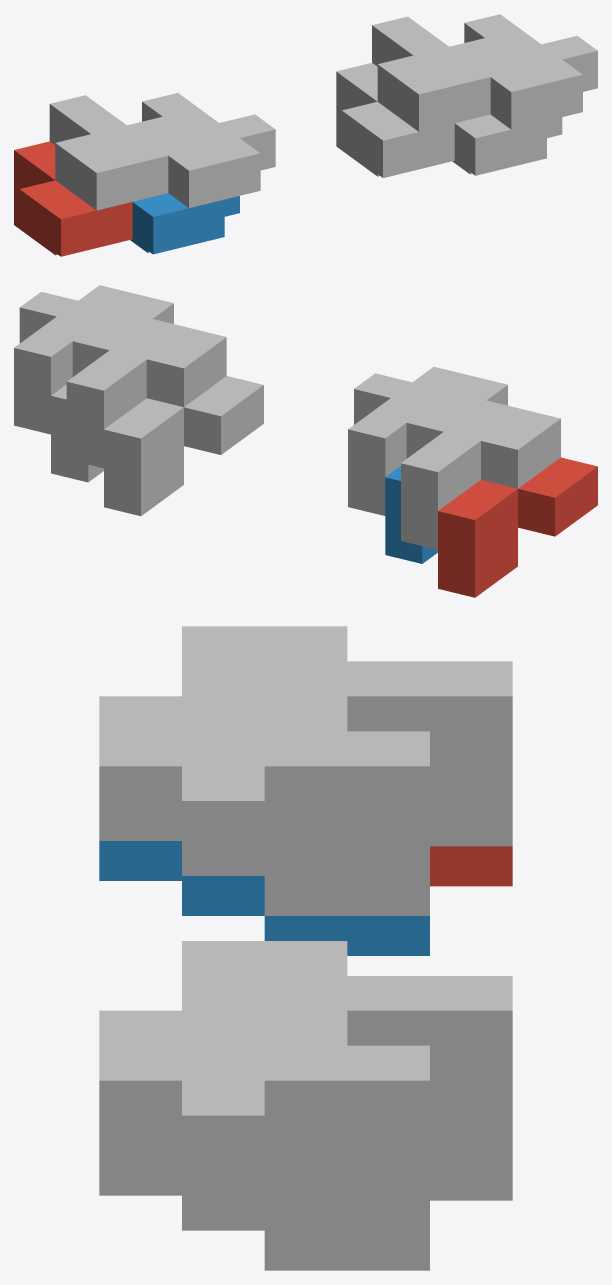
Rendered from tiling.obj.
3 renders of one model, top to bottom at view 1: azimuth 30°, elevation 25°; view 2: azimuth 150°, elevation 25°; view 3: azimuth 270°, elevation 25°, orthographic. The views are drawn at different scales.
Visible parts, largest first — view 1: copy_1_domain_3, copy_1_domain_7, copy_1_domain_8, copy_1_domain_4, copy_1_domain_5, copy_1_domain_1, copy_1_domain_6, copy_1_domain_2; view 2: copy_1_domain_7, copy_1_domain_3, copy_1_domain_1, copy_1_domain_5, copy_1_domain_4, copy_1_domain_8, copy_1_domain_6, copy_1_domain_2; view 3: copy_1_domain_8, copy_1_domain_4, copy_1_domain_3, copy_1_domain_7, copy_1_domain_6, copy_1_domain_2, copy_1_domain_1, copy_1_domain_5.
Boxes of the visible parts, bbox=[...] form: copy_1_domain_3: bbox=[49, 95, 182, 210]; copy_1_domain_7: bbox=[372, 16, 505, 131]; copy_1_domain_8: bbox=[464, 14, 597, 129]; copy_1_domain_4: bbox=[142, 93, 275, 207]; copy_1_domain_5: bbox=[336, 63, 454, 177]; copy_1_domain_1: bbox=[14, 141, 132, 256]; copy_1_domain_6: bbox=[452, 114, 562, 175]; copy_1_domain_2: bbox=[130, 193, 239, 254]; copy_1_domain_7: bbox=[66, 319, 226, 468]; copy_1_domain_3: bbox=[401, 400, 560, 549]; copy_1_domain_1: bbox=[438, 457, 597, 597]; copy_1_domain_5: bbox=[104, 376, 263, 516]; copy_1_domain_4: bbox=[348, 366, 507, 515]; copy_1_domain_8: bbox=[14, 285, 173, 434]; copy_1_domain_6: bbox=[51, 384, 103, 482]; copy_1_domain_2: bbox=[385, 466, 437, 563]; copy_1_domain_8: bbox=[99, 1010, 429, 1230]; copy_1_domain_4: bbox=[99, 696, 429, 915]; copy_1_domain_3: bbox=[182, 626, 512, 846]; copy_1_domain_7: bbox=[182, 941, 512, 1160]; copy_1_domain_6: bbox=[99, 1155, 429, 1270]; copy_1_domain_2: bbox=[99, 841, 429, 955]; copy_1_domain_1: bbox=[430, 846, 512, 886]; copy_1_domain_5: bbox=[430, 1160, 512, 1200].
Bounding box in the file's own units: 15 × 3 × 5.
